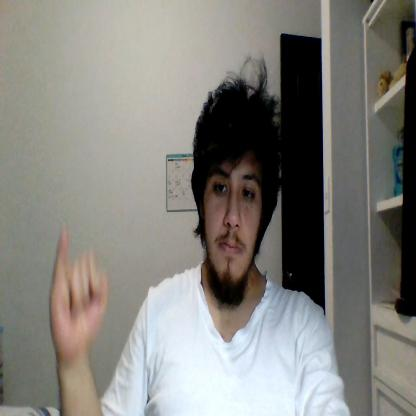I: (49, 219, 107, 358)
